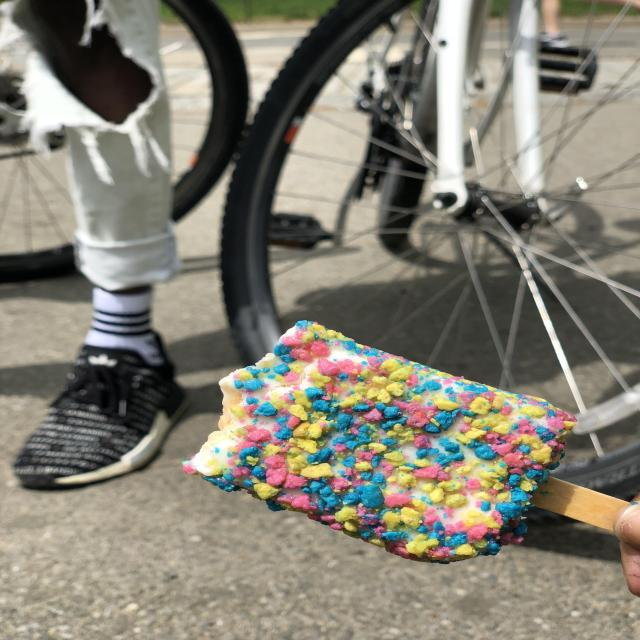shoe: (5, 311, 187, 505)
